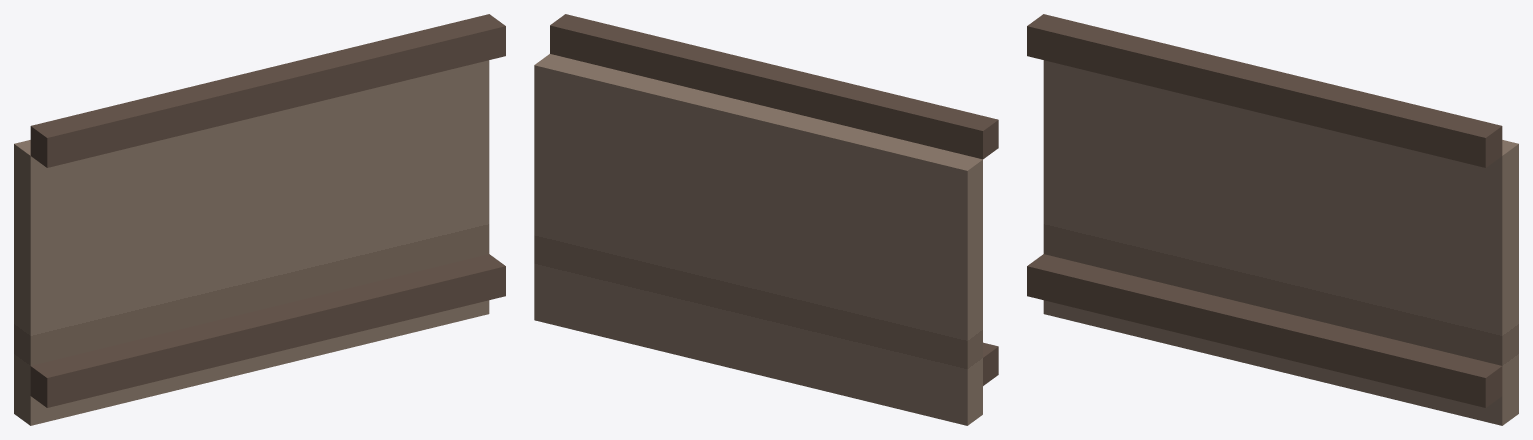
Rendered from wall_sign_middle.fbx.
3 views of the same model, side by side, from view 1: azimuth 30°, elevation 25°; view 2: azimuth 150°, elevation 25°; view 3: azimuth 330°, elevation 25° (orthographic). The views are drawn at different scales.
Parts seen in each view (by area): view 1: wall_sign_mi_0; view 2: wall_sign_mi_0; view 3: wall_sign_mi_0.
Part boxes in pixels (box(x1,y1,x2,y2)): wall_sign_mi_0: box(14, 14, 505, 425); wall_sign_mi_0: box(534, 14, 998, 425); wall_sign_mi_0: box(1027, 14, 1518, 425).
Size of the model in its own units: 1600 by 200 by 1000.
